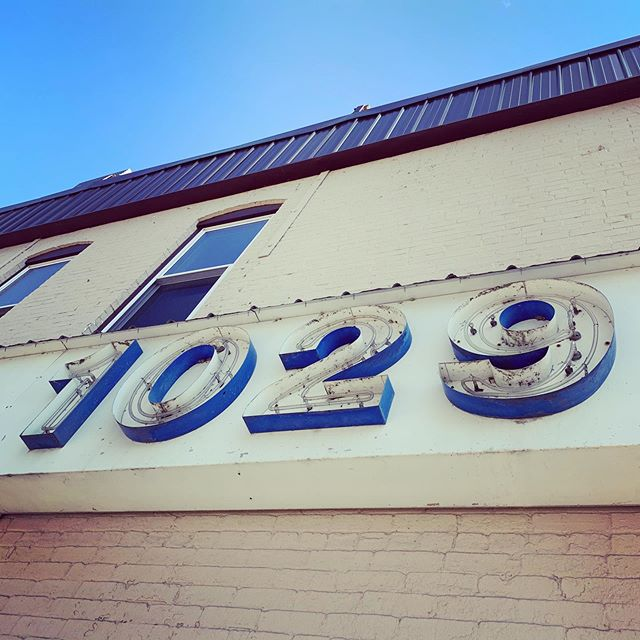building: (18, 48, 640, 640)
sign: (7, 272, 629, 474)
sky: (10, 1, 525, 158)
window: (110, 209, 279, 332)
